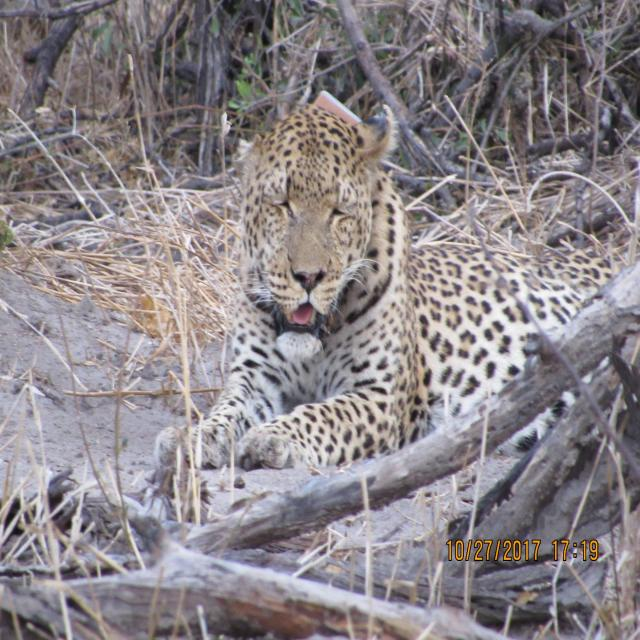Leopard: (158, 94, 617, 471)
